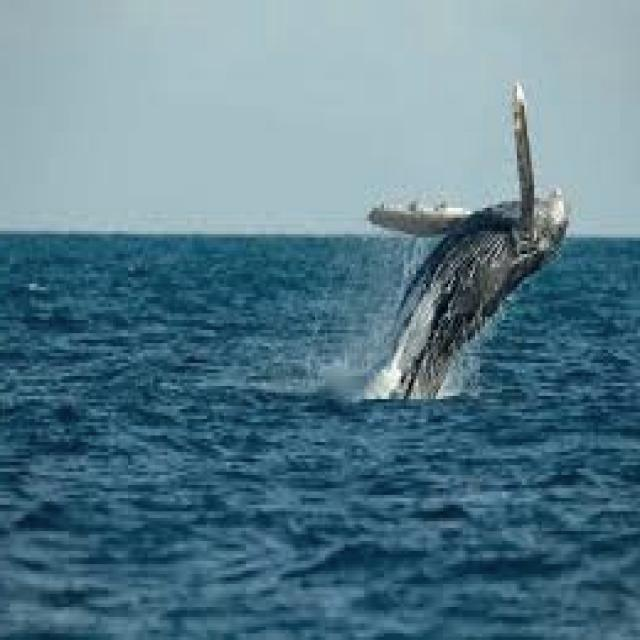whale: (364, 82, 569, 396)
